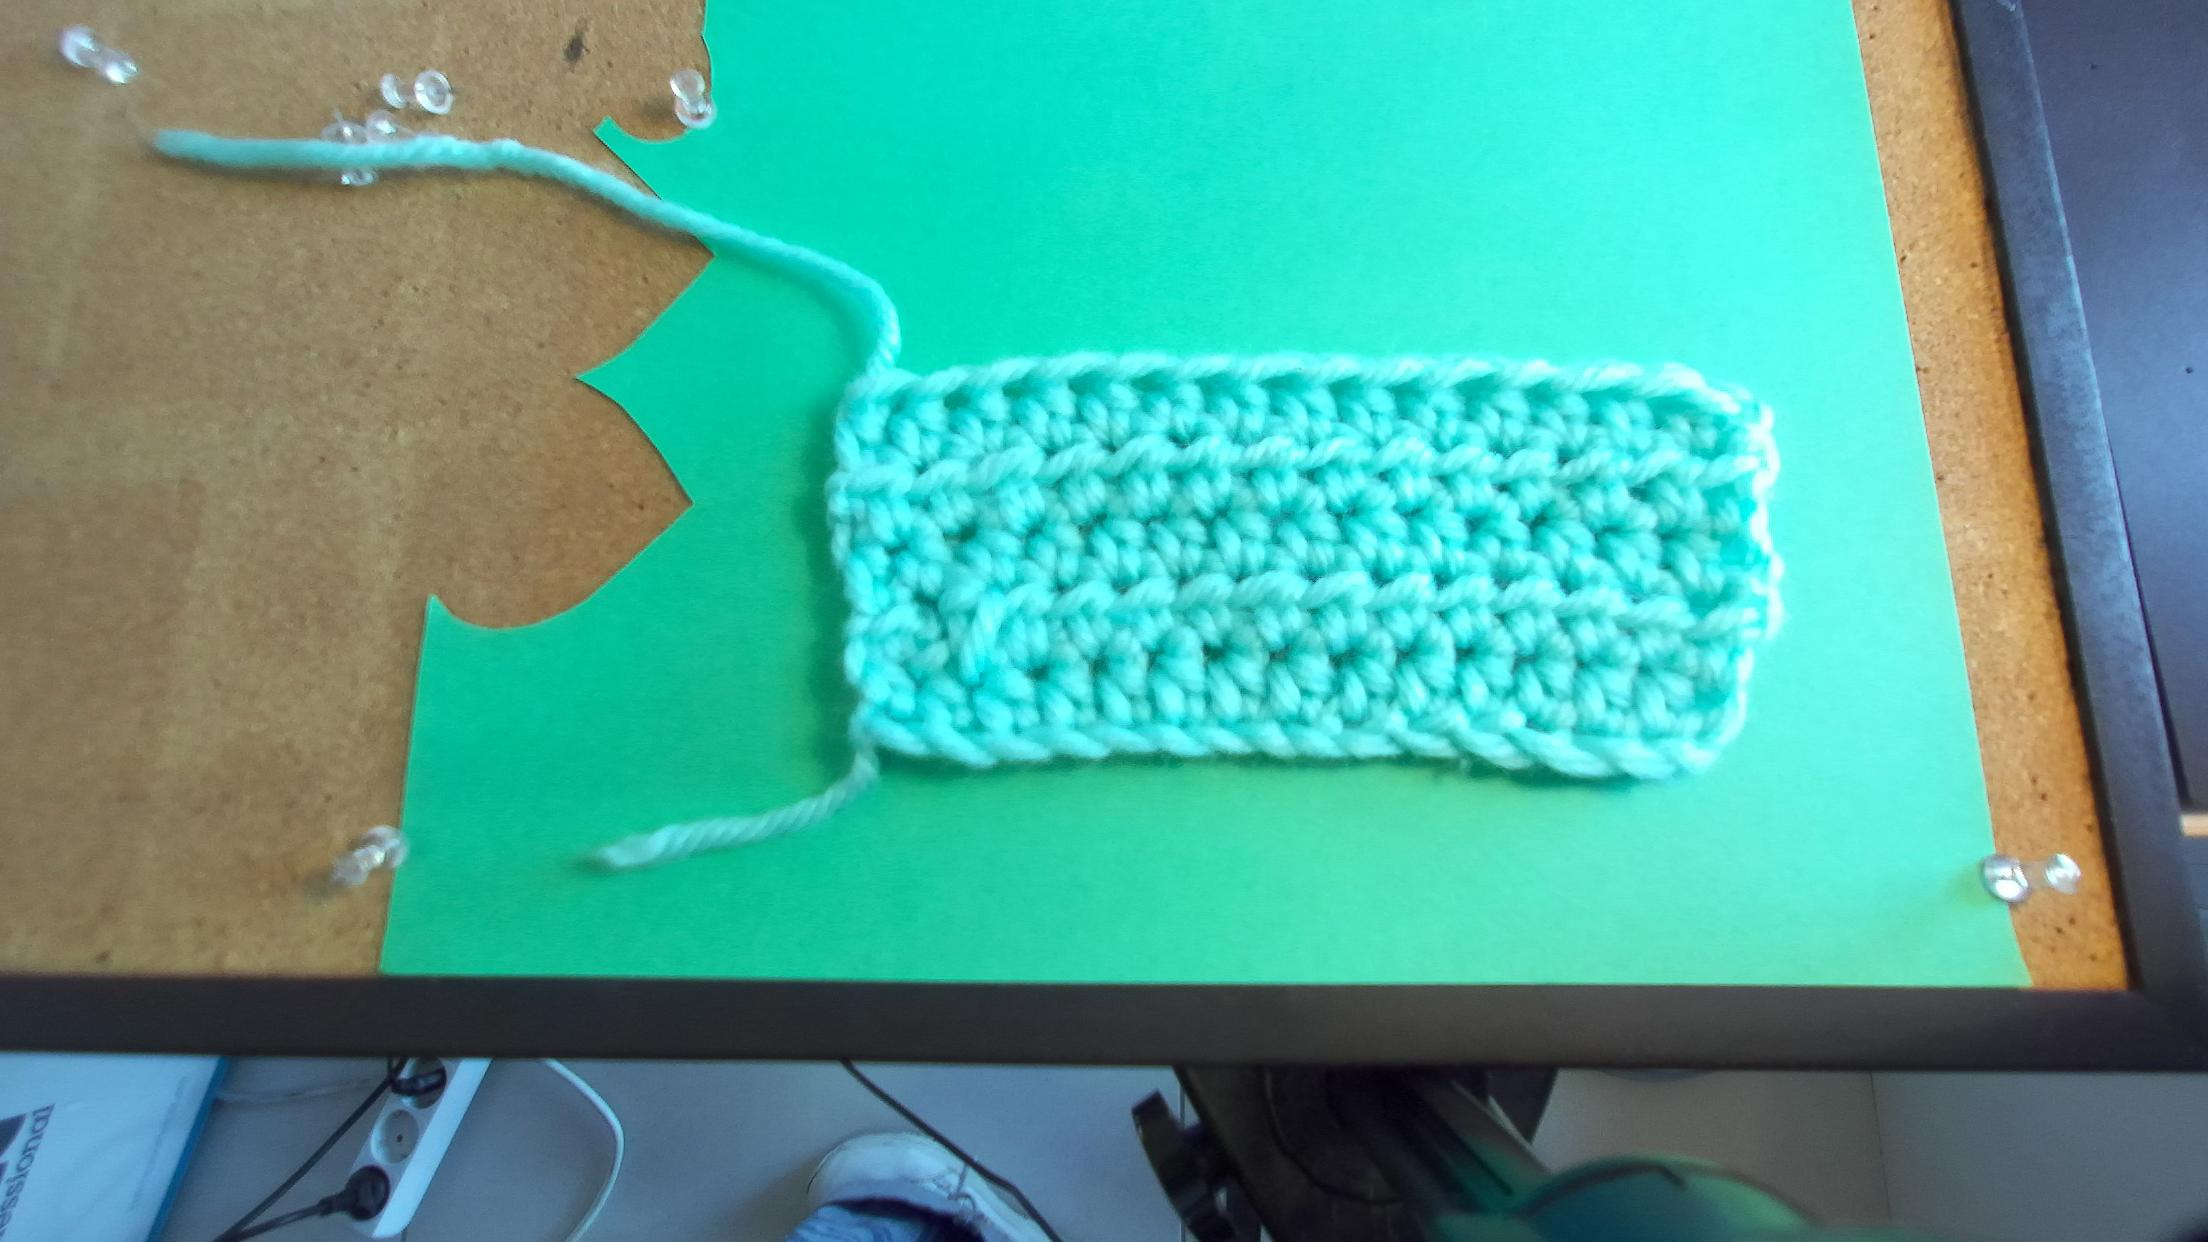hole: (940, 384, 972, 412), (1004, 379, 1033, 400), (1069, 375, 1098, 396), (1579, 390, 1615, 406), (1450, 379, 1489, 394), (1328, 378, 1356, 399), (1385, 381, 1416, 399), (1131, 375, 1162, 393), (1190, 375, 1221, 393), (1259, 376, 1295, 391), (887, 391, 907, 419), (1524, 384, 1551, 400)
swatch: (830, 358, 1786, 787)
